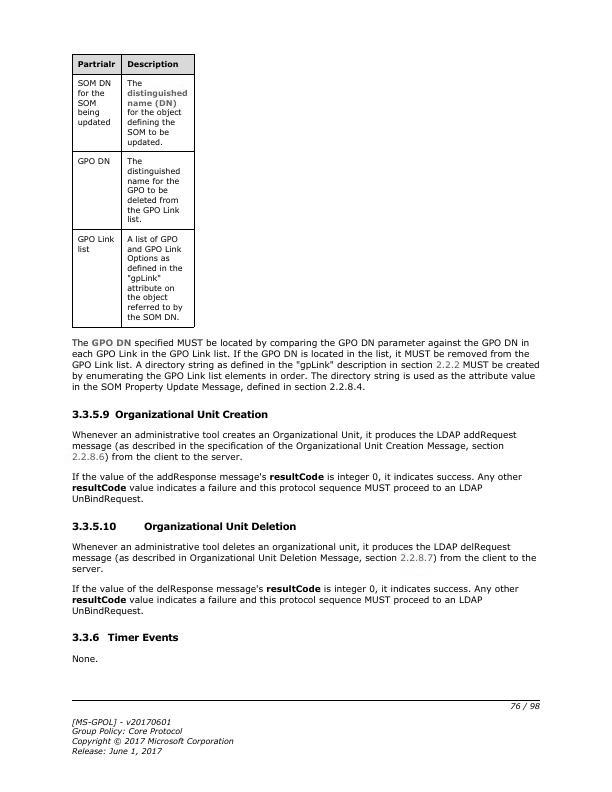table: (71, 54, 197, 329)
text: (71, 336, 542, 394), (69, 541, 539, 576), (69, 470, 523, 506), (70, 581, 521, 617), (70, 429, 518, 464), (69, 714, 238, 758), (70, 407, 269, 424), (69, 520, 298, 534), (71, 631, 181, 644), (69, 652, 100, 665)
